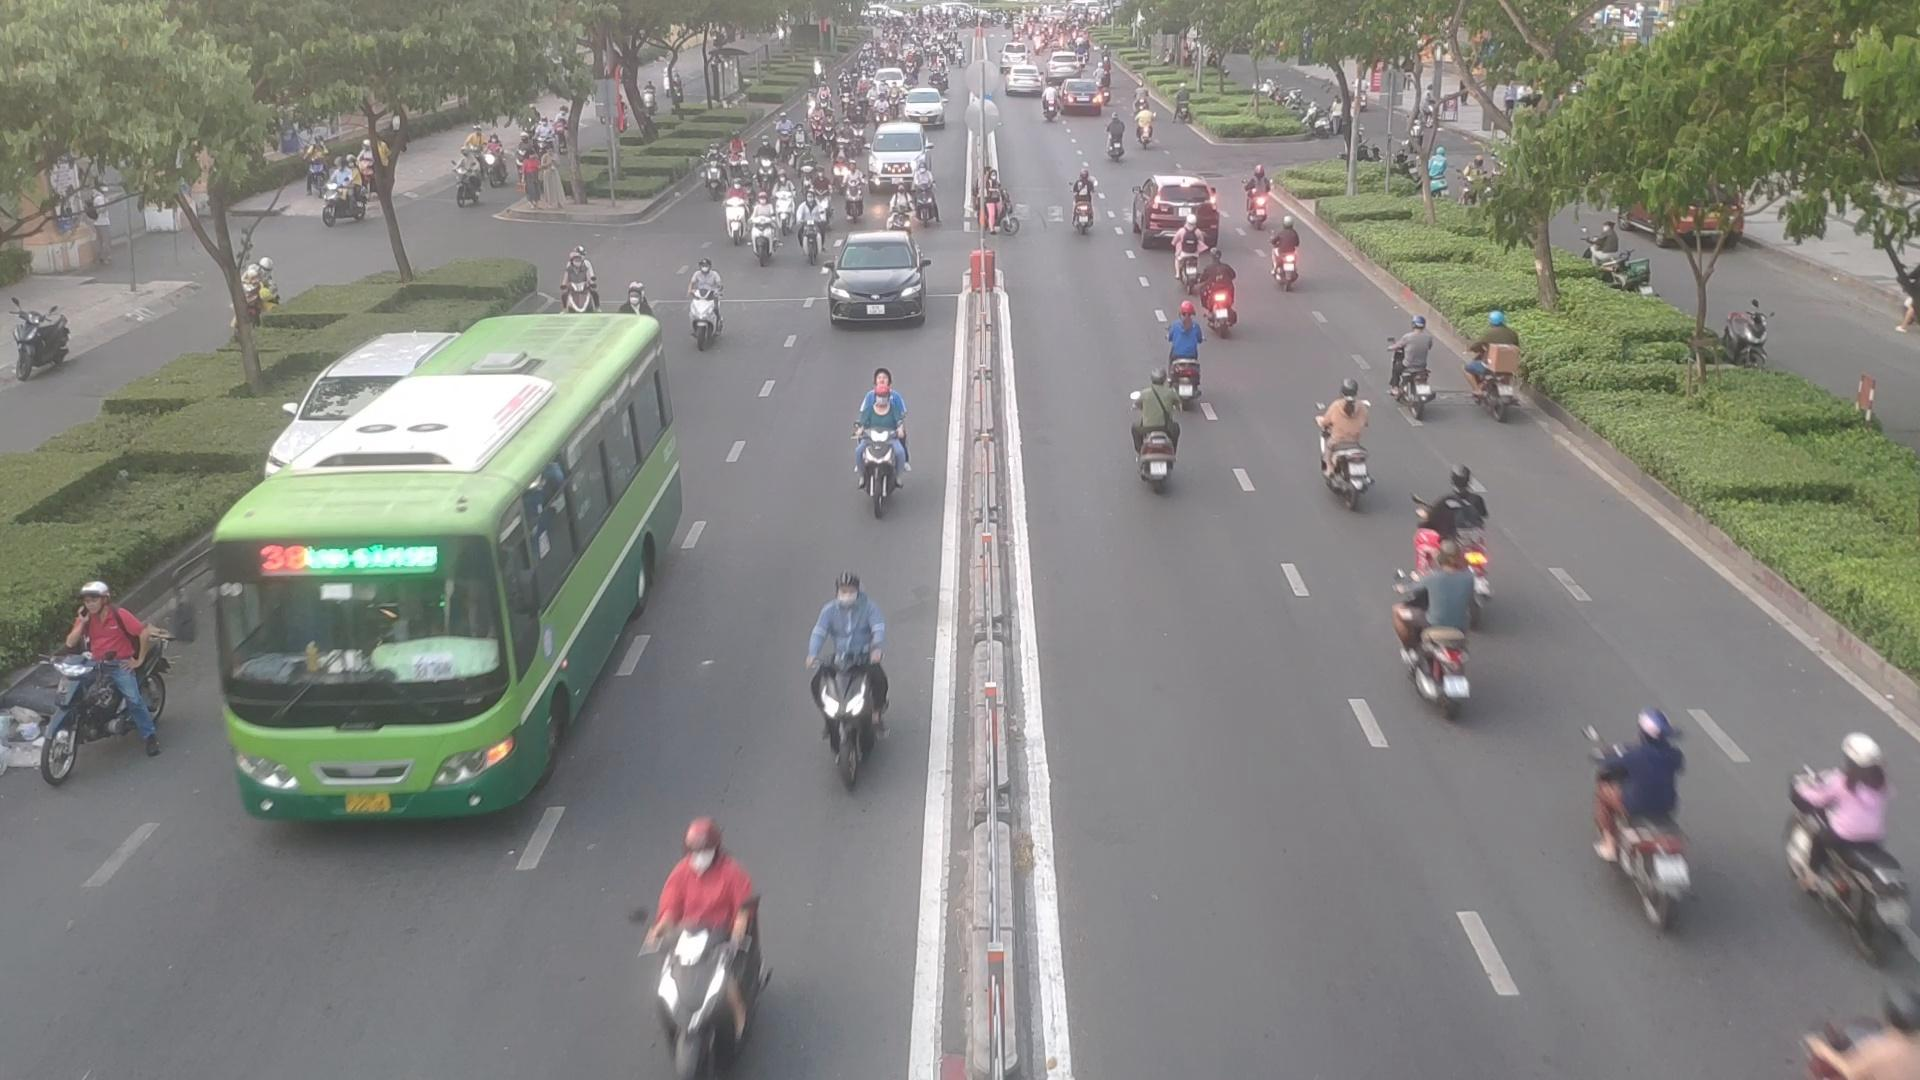bus: (214, 313, 661, 829)
car: (820, 236, 928, 328), (1131, 179, 1216, 252), (865, 123, 928, 193)
motorbike: (626, 829, 775, 1076), (32, 566, 171, 777), (1793, 727, 1920, 959), (1594, 707, 1706, 928), (799, 580, 894, 781), (1395, 531, 1494, 708), (1782, 967, 1920, 1080), (841, 378, 913, 510), (1312, 385, 1377, 509), (1127, 375, 1191, 487), (1466, 303, 1527, 411), (1389, 316, 1455, 415), (1189, 249, 1251, 342), (684, 257, 735, 349), (1267, 215, 1305, 290), (1063, 171, 1102, 235), (746, 202, 783, 265), (835, 161, 866, 225), (915, 179, 944, 227)
